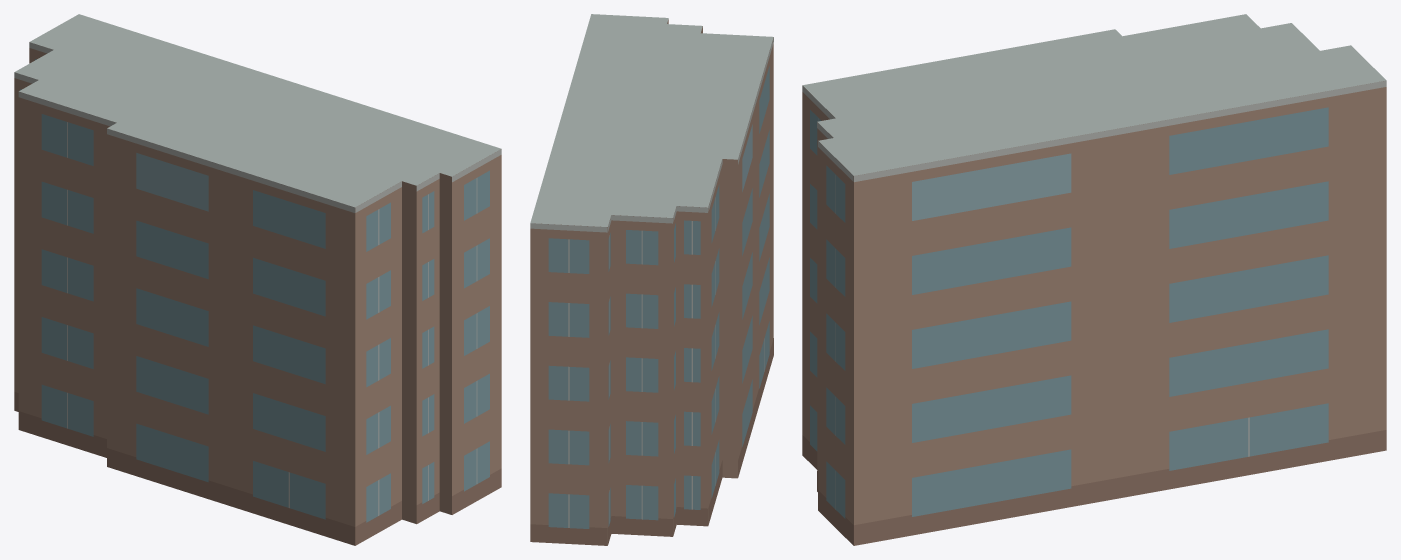
The model's file is survey-upis-32765723.glb.
3 renders of one model, left to right at view 1: azimuth 30°, elevation 25°; view 2: azimuth 150°, elevation 25°; view 3: azimuth 270°, elevation 25°, orthographic. The views are drawn at different scales.
Parts seen in each view (by area): view 1: survey-upis-32765723.tmp; view 2: survey-upis-32765723.tmp; view 3: survey-upis-32765723.tmp.
Boxes of the visible parts, x1=… form: survey-upis-32765723.tmp: x1=14, y1=14, x2=501, y2=545; survey-upis-32765723.tmp: x1=530, y1=14, x2=773, y2=545; survey-upis-32765723.tmp: x1=802, y1=14, x2=1386, y2=545.
Size of the model in its own units: 13.43 by 14.3 by 20.48.
